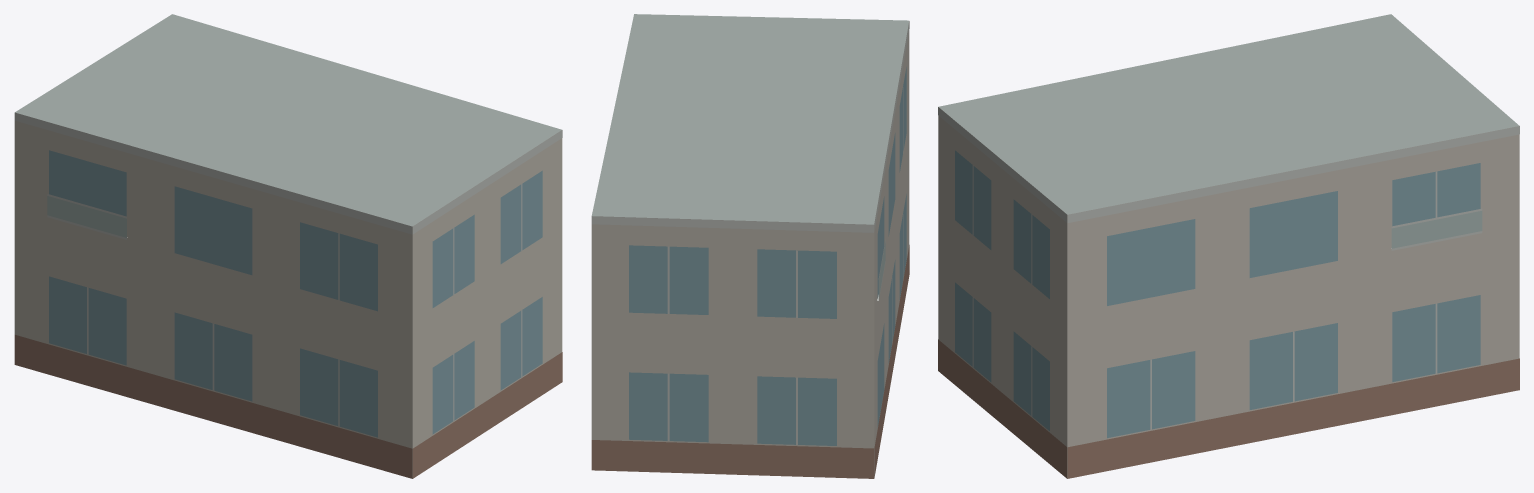
File: survey-upis-32989367.glb
3 renders of one model, left to right at view 1: azimuth 30°, elevation 25°; view 2: azimuth 150°, elevation 25°; view 3: azimuth 270°, elevation 25°, orthographic. The views are drawn at different scales.
Parts seen in each view (by area): view 1: survey-upis-32989367.tmp; view 2: survey-upis-32989367.tmp; view 3: survey-upis-32989367.tmp.
Boxes of the visible parts, left/top/right/bottom form: survey-upis-32989367.tmp: left=14, top=14, right=562, bottom=478; survey-upis-32989367.tmp: left=591, top=14, right=909, bottom=478; survey-upis-32989367.tmp: left=938, top=14, right=1519, bottom=478.
Bounding box in the file's own units: 12.4 × 7.6 × 15.18.
